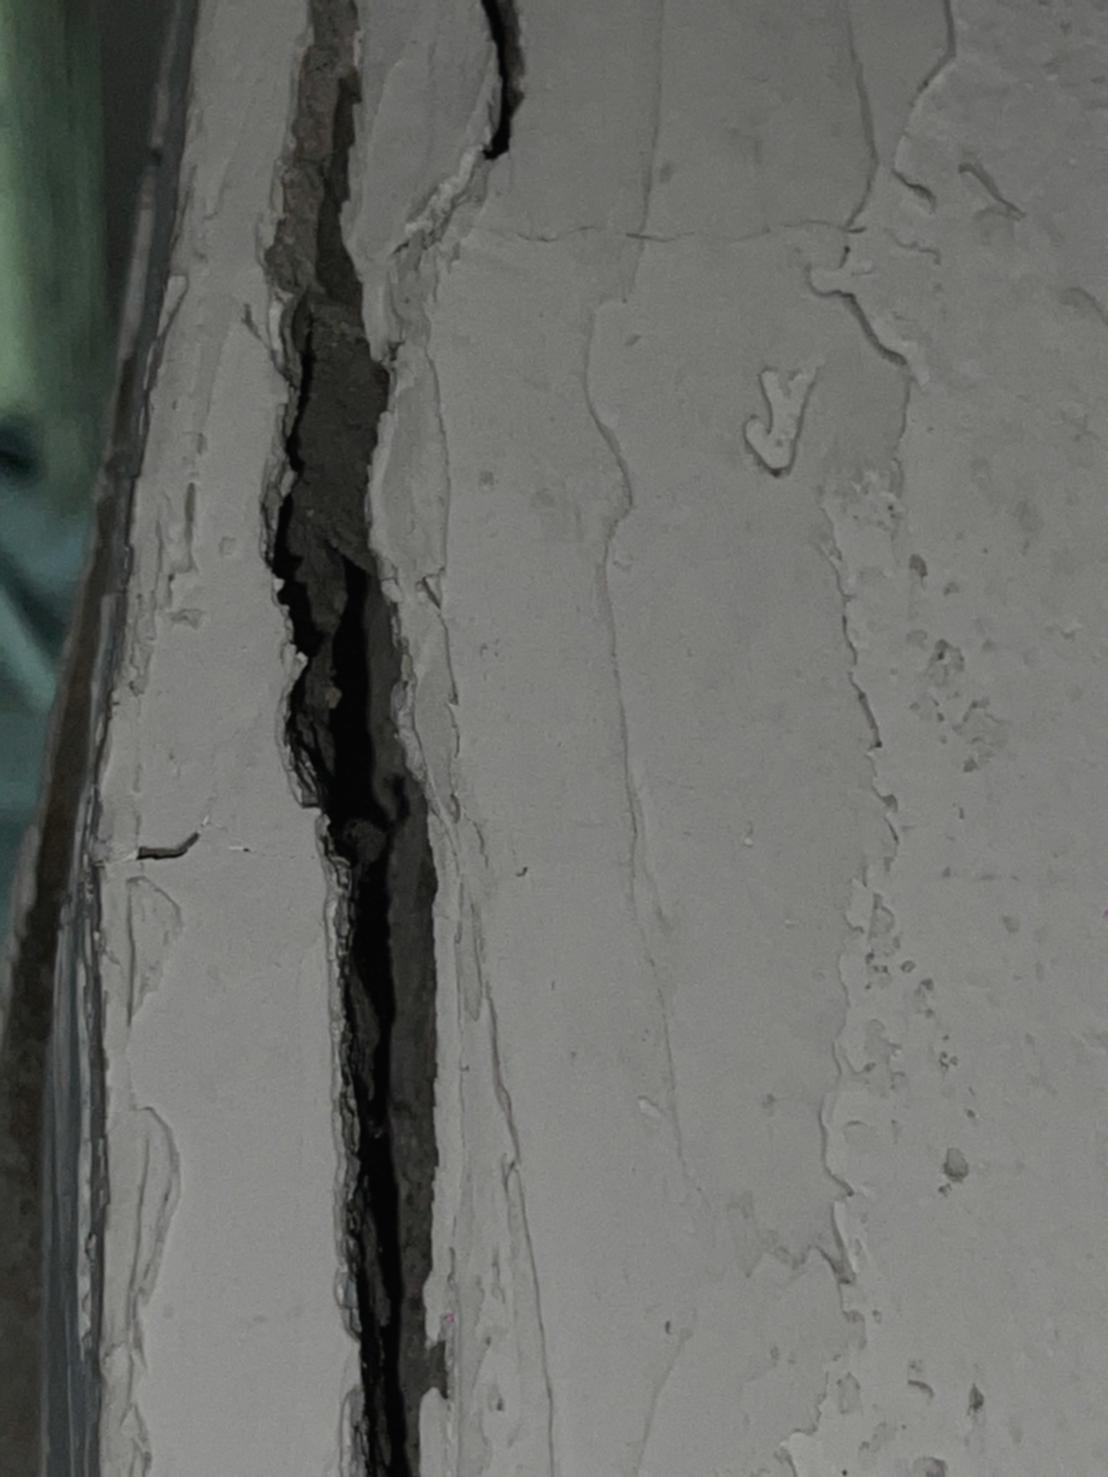High: (235, 3, 547, 1474)
